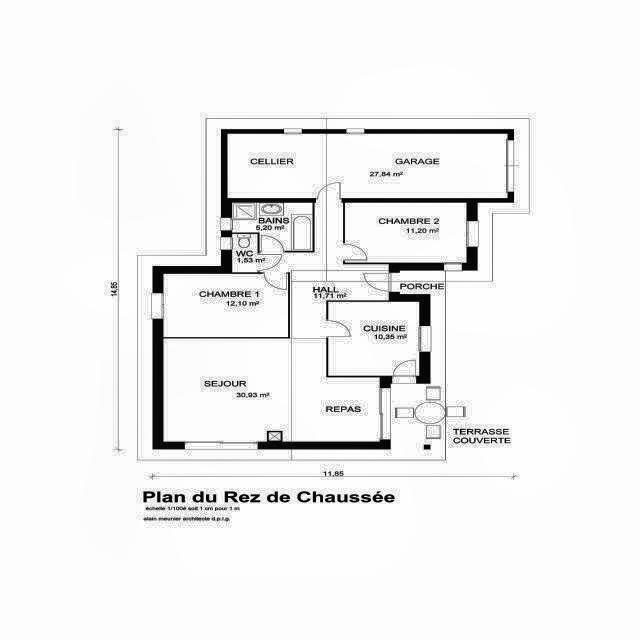room: (164, 203, 389, 441), (228, 134, 507, 198), (164, 274, 288, 337), (345, 203, 466, 262), (329, 302, 419, 376), (232, 203, 313, 251), (232, 234, 257, 272)
